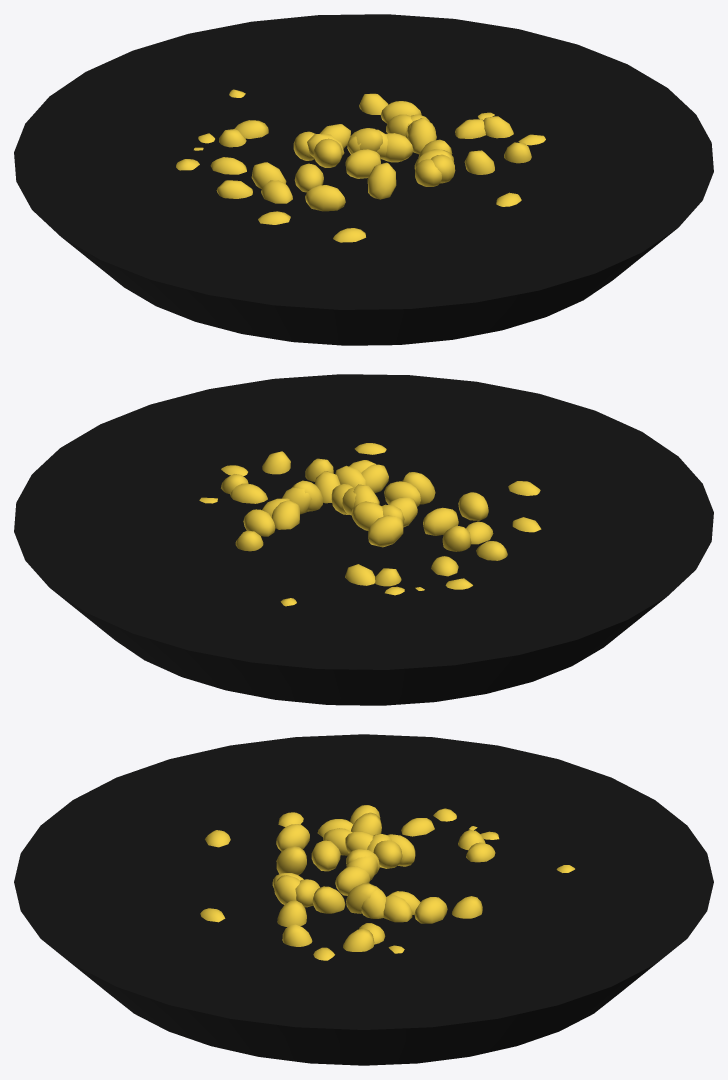
Rendered from crispy-corn.glb.
3 views of the same model, one above another, from view 1: azimuth 30°, elevation 25°; view 2: azimuth 150°, elevation 25°; view 3: azimuth 270°, elevation 25° (orthographic).
Size of the model in its own units: 1.9 by 0.3 by 1.9.
